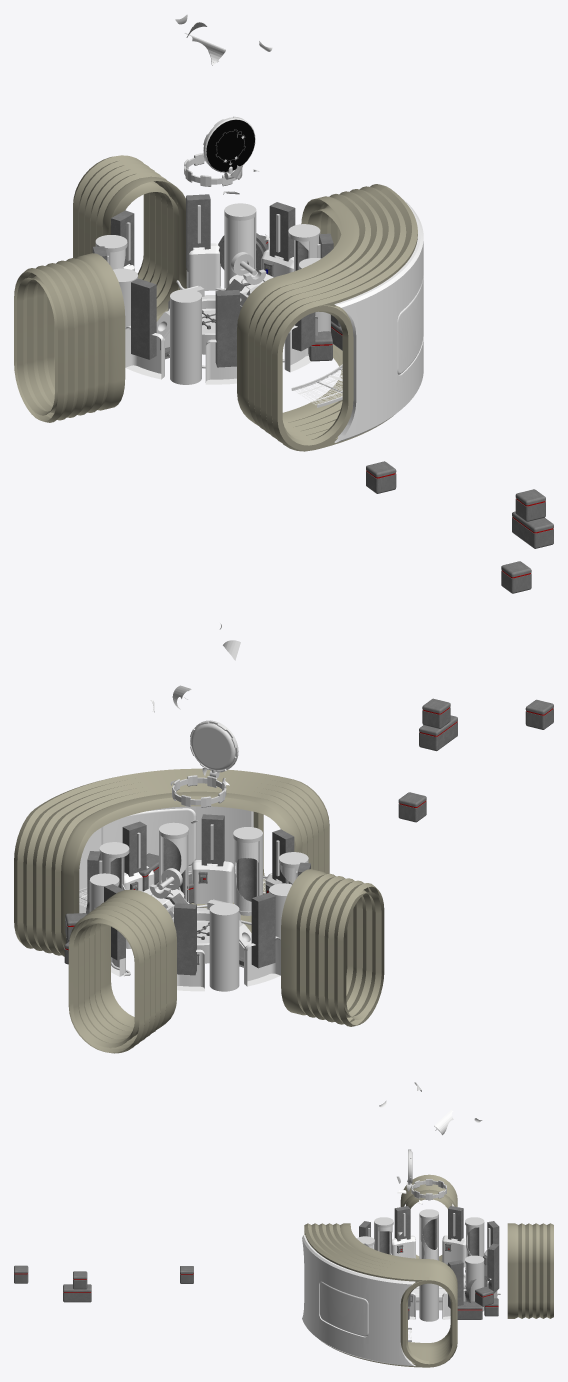
Rendered from rooms_group.fbx.
The picture shows the model from 3 angles, top to bottom: view 1: azimuth 30°, elevation 25°; view 2: azimuth 150°, elevation 25°; view 3: azimuth 270°, elevation 25°; orthographic projection. The views are drawn at different scales.
Visible parts, largest first — view 1: room_03_seals, room_03_walkway, room_04_scrubbers, room_01_capsules, room_01_wall_mounts, room_03_boxes, room_04_hatch, room_03_outer_window, room_03_central_console, generic_boxes, room_walkway_support1, room_04_hatch_seal; view 2: room_03_seals, room_01_capsules, room_04_scrubbers, room_01_wall_mounts, room_03_boxes, room_03_walkway, room_03_outer_window, room_04_hatch, room_01_glass, generic_boxes, room_03_central_console, room_04_hatch_seal (+1 smaller); view 3: room_03_seals, room_03_walkway, room_01_capsules, room_04_scrubbers, room_03_outer_window, room_01_wall_mounts, room_03_boxes, generic_boxes, room_01_glass, room_04_hatch_seal.
Part boxes in pixels (x1,y1,x2,y2): room_03_seals: (14,155,417,451); room_03_walkway: (334,199,423,442); room_04_scrubbers: (92,194,333,367); room_01_capsules: (95,203,330,384); room_01_wall_mounts: (123,243,317,384); room_03_boxes: (366,461,553,593); room_04_hatch: (203,116,255,179); room_03_outer_window: (397,276,423,374); room_03_central_console: (156,286,248,354); generic_boxes: (259,235,342,361); room_walkway_support1: (293,368,342,404); room_04_hatch_seal: (184,153,242,186); room_03_seals: (14,768,384,1053); room_01_capsules: (89,822,308,991); room_04_scrubbers: (87,814,310,975); room_01_wall_mounts: (111,860,282,991); room_03_boxes: (398,698,553,822); room_03_walkway: (79,806,253,913); room_03_outer_window: (101,808,195,866); room_04_hatch: (190,720,238,778); room_01_glass: (110,836,294,911); generic_boxes: (64,853,193,964); room_03_central_console: (166,899,251,963); room_04_hatch_seal: (172,775,226,807); room_03_seals: (304,1174,553,1367); room_03_walkway: (302,1235,415,1366); room_01_capsules: (357,1209,484,1321); room_04_scrubbers: (359,1206,499,1308); room_03_outer_window: (320,1281,368,1336); room_01_wall_mounts: (392,1235,497,1319); room_03_boxes: (14,1265,193,1302); generic_boxes: (408,1287,498,1319); room_01_glass: (369,1218,474,1260); room_04_hatch_seal: (411,1179,446,1200).
Size of what is drawn, in the model's own units: 17.67 by 17.43 by 37.88.
10 materials, 3 textured.
